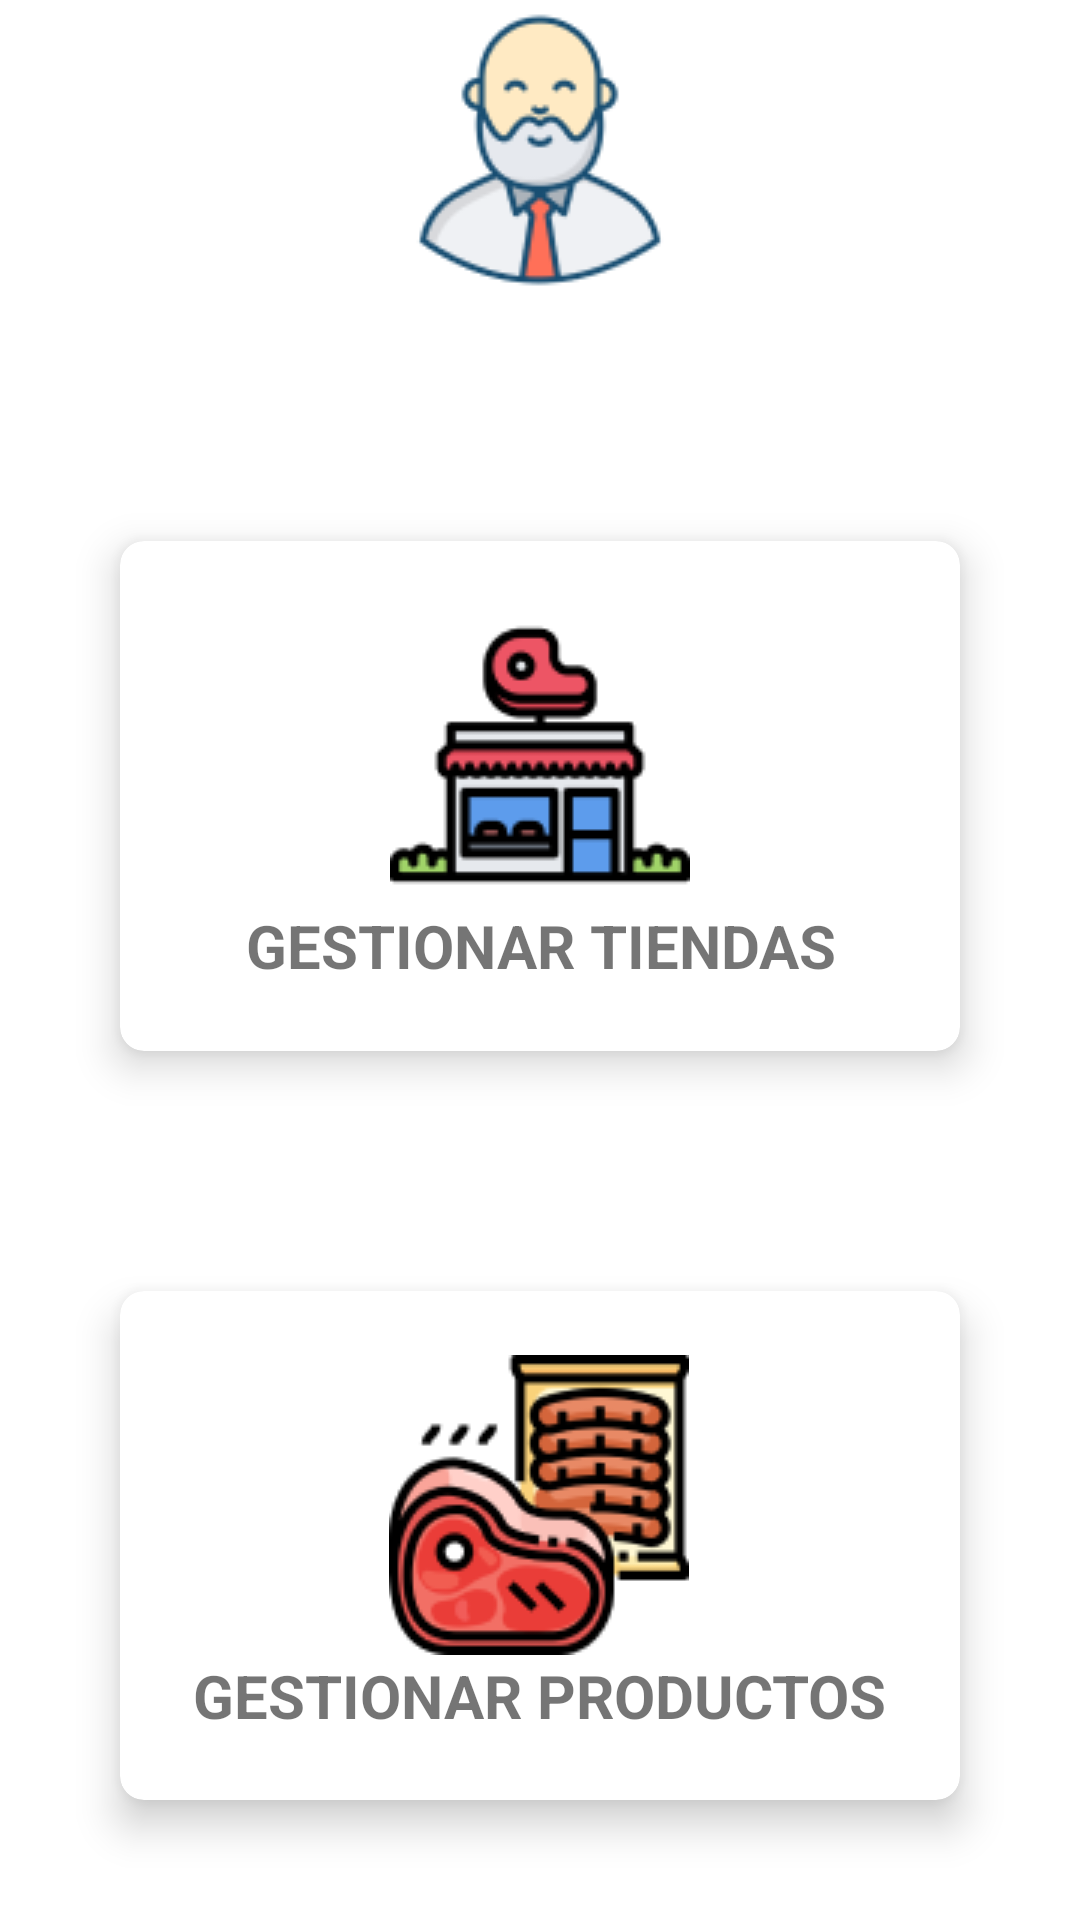

Where icons sit on this 1080 x 1920 app screen, as bbox=[x1, y1, x2, y2]:
butcher: bbox=[390, 626, 690, 884]
meat: bbox=[389, 1355, 689, 1655]
